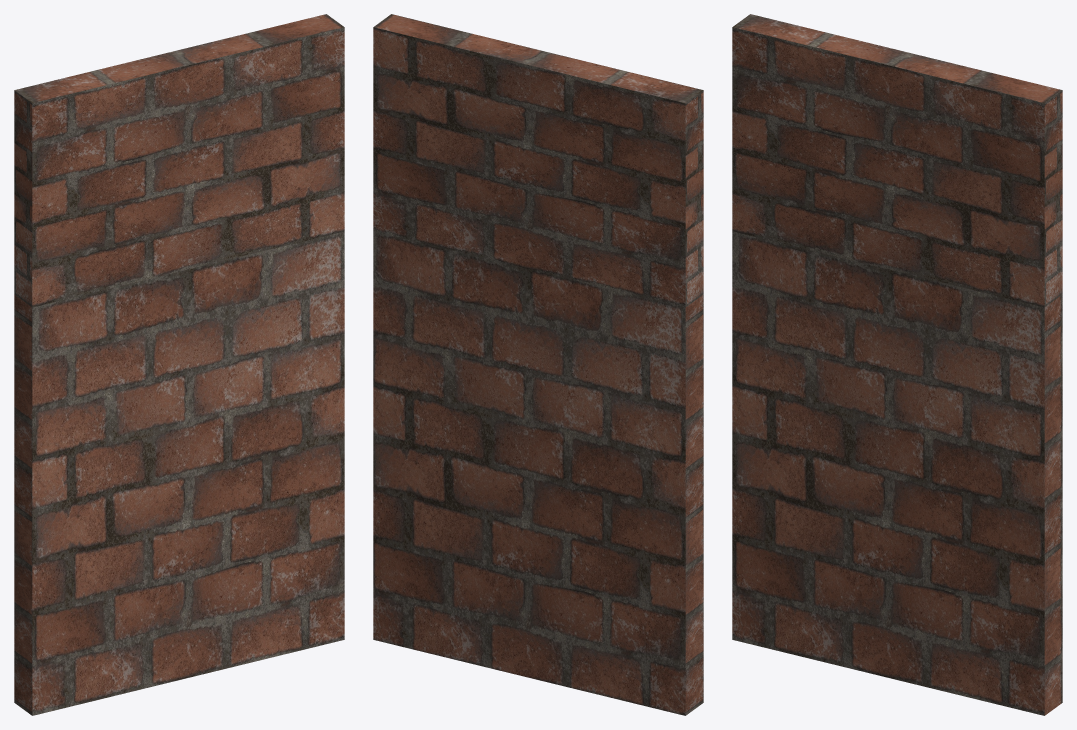
Rendered from StairsRoofWall.fbx.
3 renders of one model, left to right at view 1: azimuth 30°, elevation 25°; view 2: azimuth 150°, elevation 25°; view 3: azimuth 330°, elevation 25°, orthographic.
Visible parts, largest first — view 1: Cube.001; view 2: Cube.001; view 3: Cube.001.
Part boxes in pixels (x1,y1,x2,y2): Cube.001: (14,14,344,715); Cube.001: (373,14,703,715); Cube.001: (732,14,1062,715).
Size of the model in its own units: 200 by 375 by 20.
